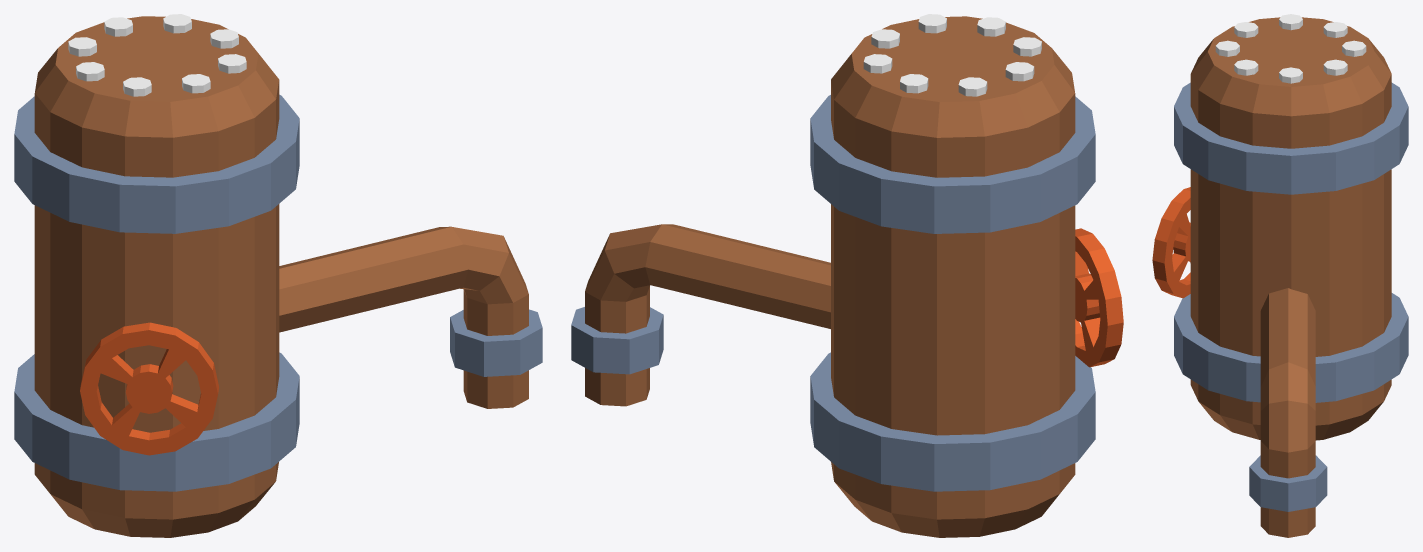
File: boiler1.fbx
The picture shows the model from 3 angles, left to right: view 1: azimuth 30°, elevation 25°; view 2: azimuth 150°, elevation 25°; view 3: azimuth 270°, elevation 25°; orthographic projection. The views are drawn at different scales.
Parts seen in each view (by area): view 1: boiler1; view 2: boiler1; view 3: boiler1.
Part boxes in pixels (<box>): boiler1: <box>14,14,542,537</box>; boiler1: <box>571,14,1123,537</box>; boiler1: <box>1152,14,1408,537</box>.
Size of the model in its own units: 191 by 161 by 103.
